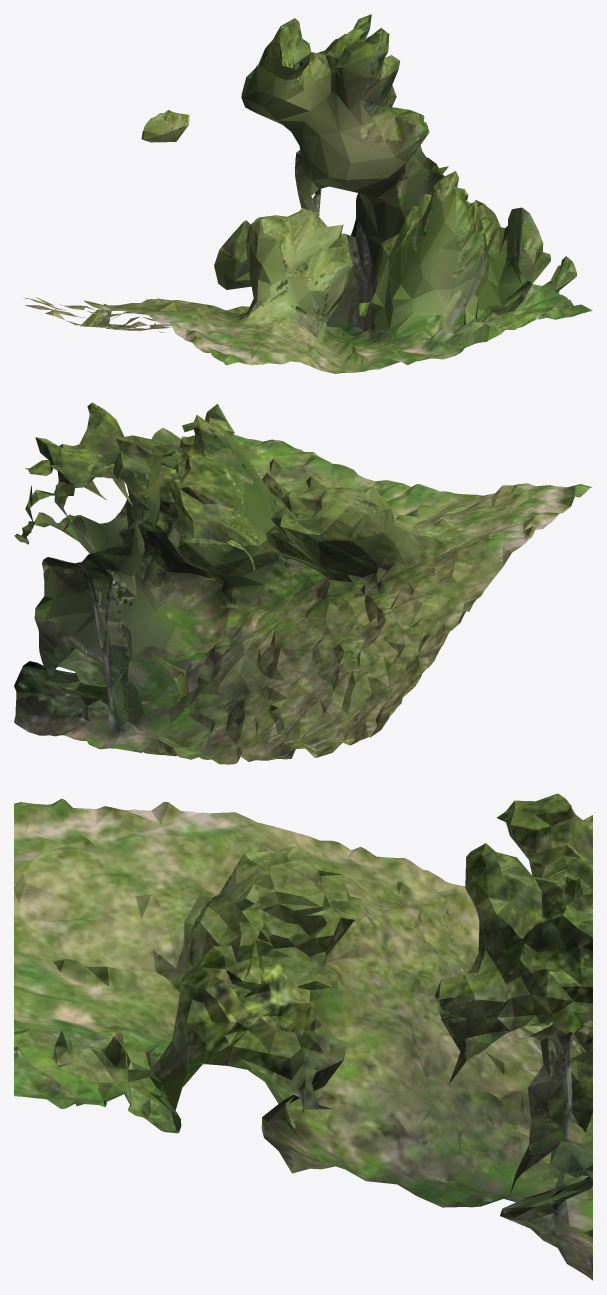
3 renders of one model, top to bottom at view 1: azimuth 30°, elevation 25°; view 2: azimuth 150°, elevation 25°; view 3: azimuth 270°, elevation 25°, orthographic. The views are drawn at different scales.
Size of the model in its own units: 26.11 by 20.95 by 26.11.
5 materials, 5 textured.
